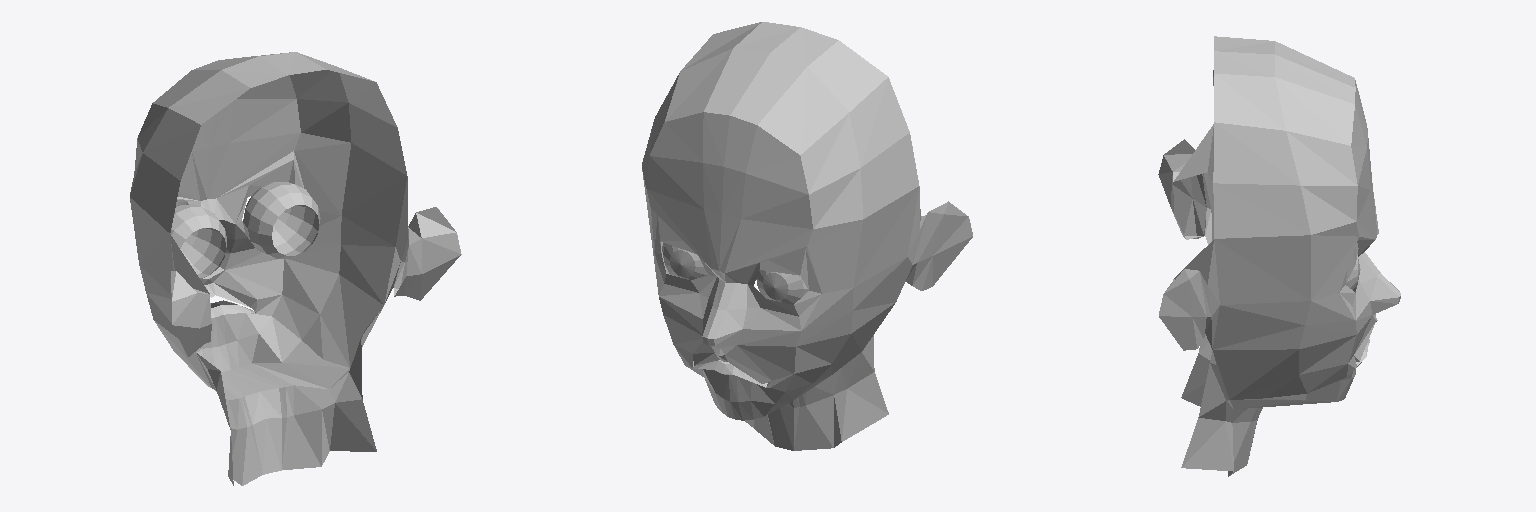
Rendered from mad.obj.
3 renders of one model, left to right at view 1: azimuth 30°, elevation 25°; view 2: azimuth 150°, elevation 25°; view 3: azimuth 270°, elevation 25°, orthographic.
Parts seen in each view (by area): view 1: body_Cylinder.002; view 2: body_Cylinder.002; view 3: body_Cylinder.002.
Part boxes in pixels (bbox=[...]): body_Cylinder.002: bbox=[130, 52, 461, 485]; body_Cylinder.002: bbox=[642, 22, 972, 450]; body_Cylinder.002: bbox=[1158, 36, 1400, 476].
Size of the model in its own units: 139 by 188 by 101.